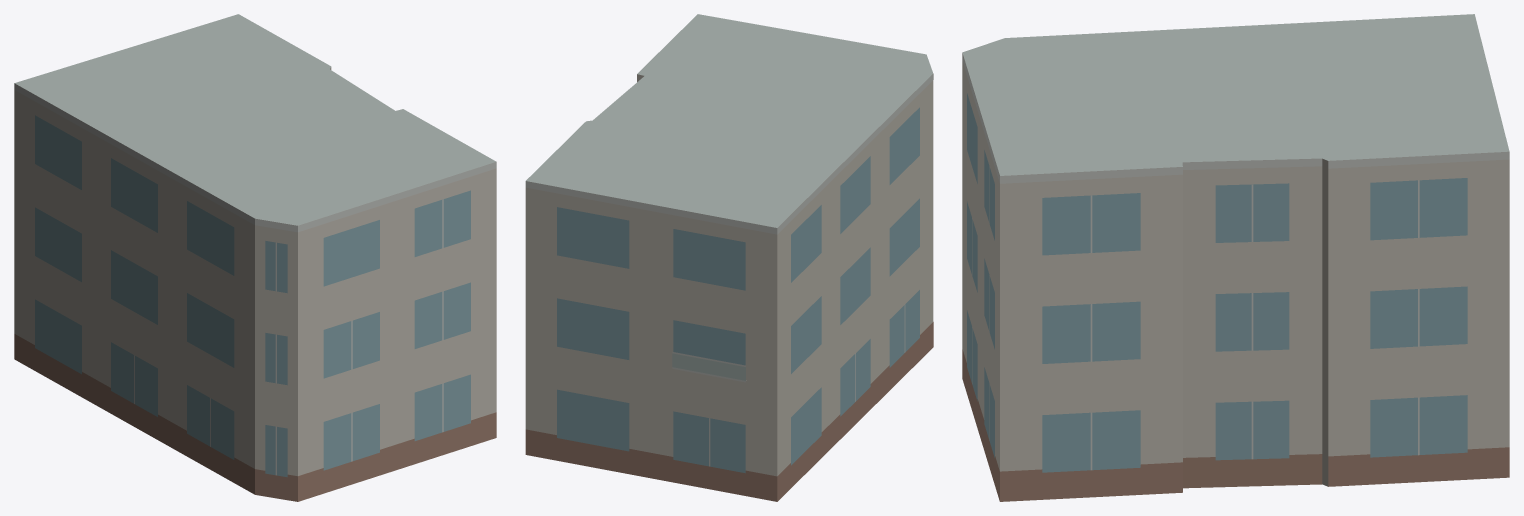
Rendered from survey-upis-32637579.glb.
3 views of the same model, side by side, from view 1: azimuth 30°, elevation 25°; view 2: azimuth 150°, elevation 25°; view 3: azimuth 270°, elevation 25° (orthographic). The views are drawn at different scales.
Parts seen in each view (by area): view 1: survey-upis-32637579.tmp; view 2: survey-upis-32637579.tmp; view 3: survey-upis-32637579.tmp.
Part boxes in pixels (x1=…): survey-upis-32637579.tmp: x1=14, y1=14, x2=496, y2=501; survey-upis-32637579.tmp: x1=525, y1=14, x2=933, y2=501; survey-upis-32637579.tmp: x1=962, y1=14, x2=1509, y2=501.
Bounding box in the file's own units: 10.88 × 10.2 × 15.54.
